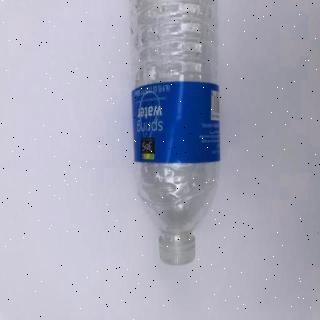Plastic-bottle: (130, 1, 223, 266)
